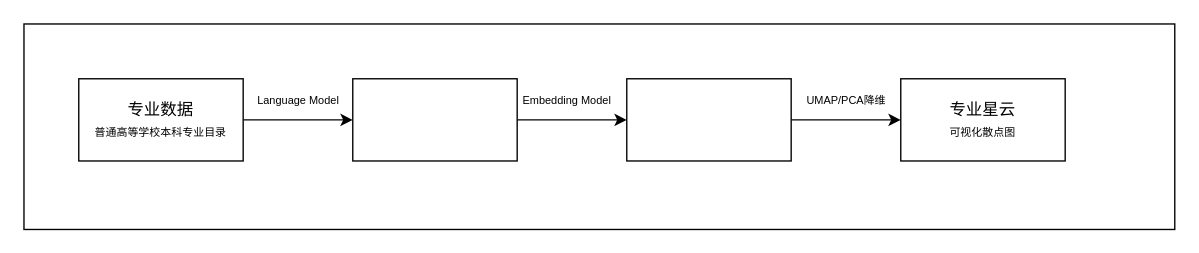
Image size: 1199x253. Some labels were removed from this diagram. Here are the shapes that lost their labels. From the top down, the box of each, then its label:
(351, 77, 517, 161): 专业描述 培养目标/课程/就业/未来发展
(625, 77, 791, 161): 专业向量
